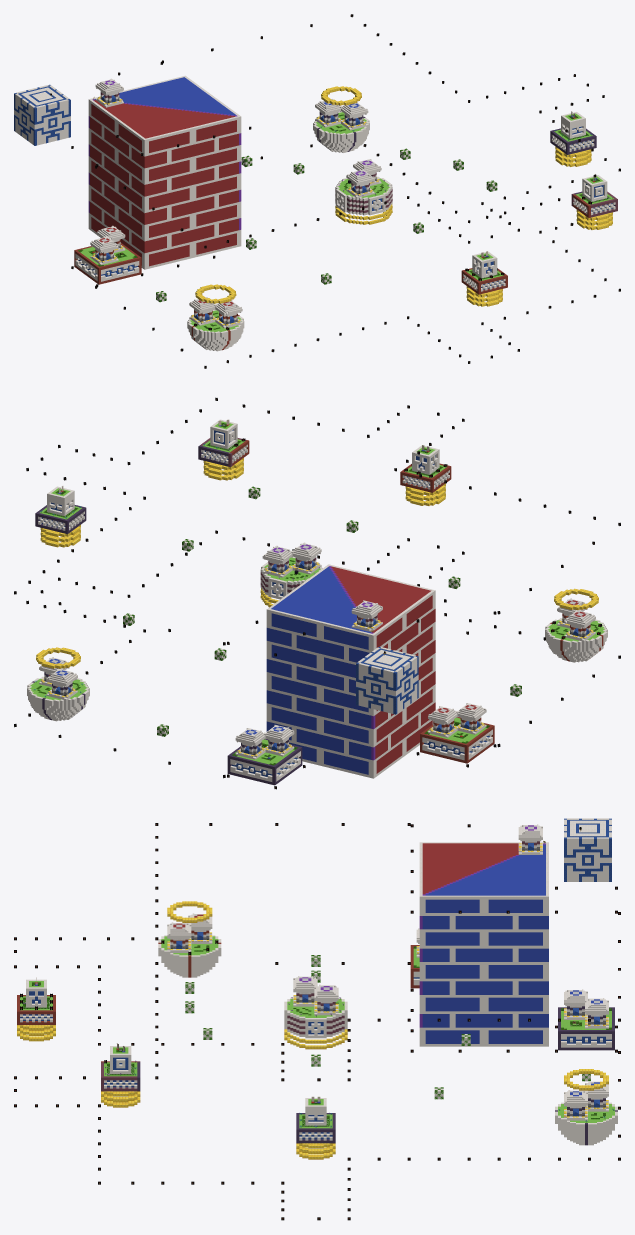
File: minecraft.obj
3 views of the same model, one above another, from view 1: azimuth 30°, elevation 25°; view 2: azimuth 150°, elevation 25°; view 3: azimuth 270°, elevation 25° (orthographic). The views are drawn at different scales.
Size of the model in its own units: 202 by 64 by 202.
